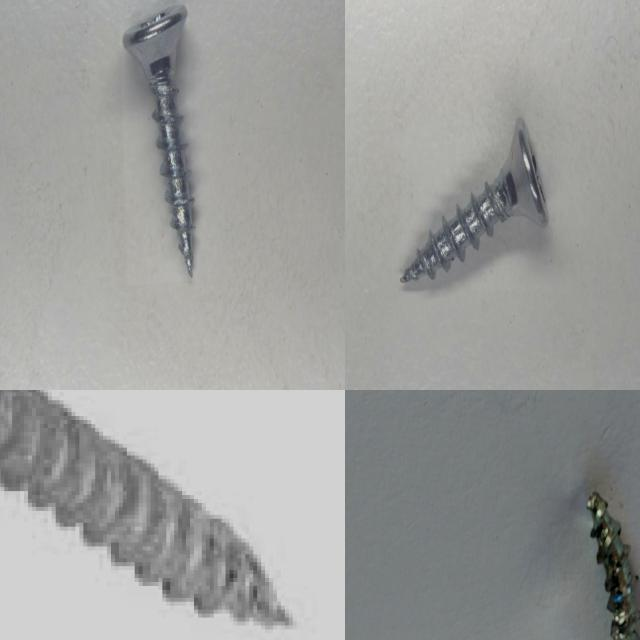Screw: (0, 390, 293, 625), (401, 117, 549, 281), (123, 4, 194, 276), (587, 491, 640, 640)
